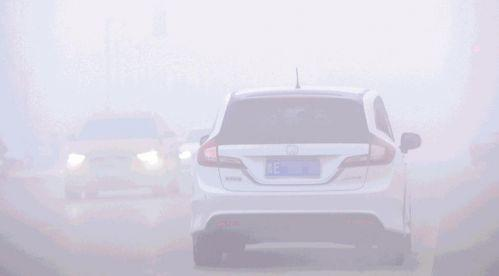car: (188, 63, 423, 271), (61, 111, 181, 199)
